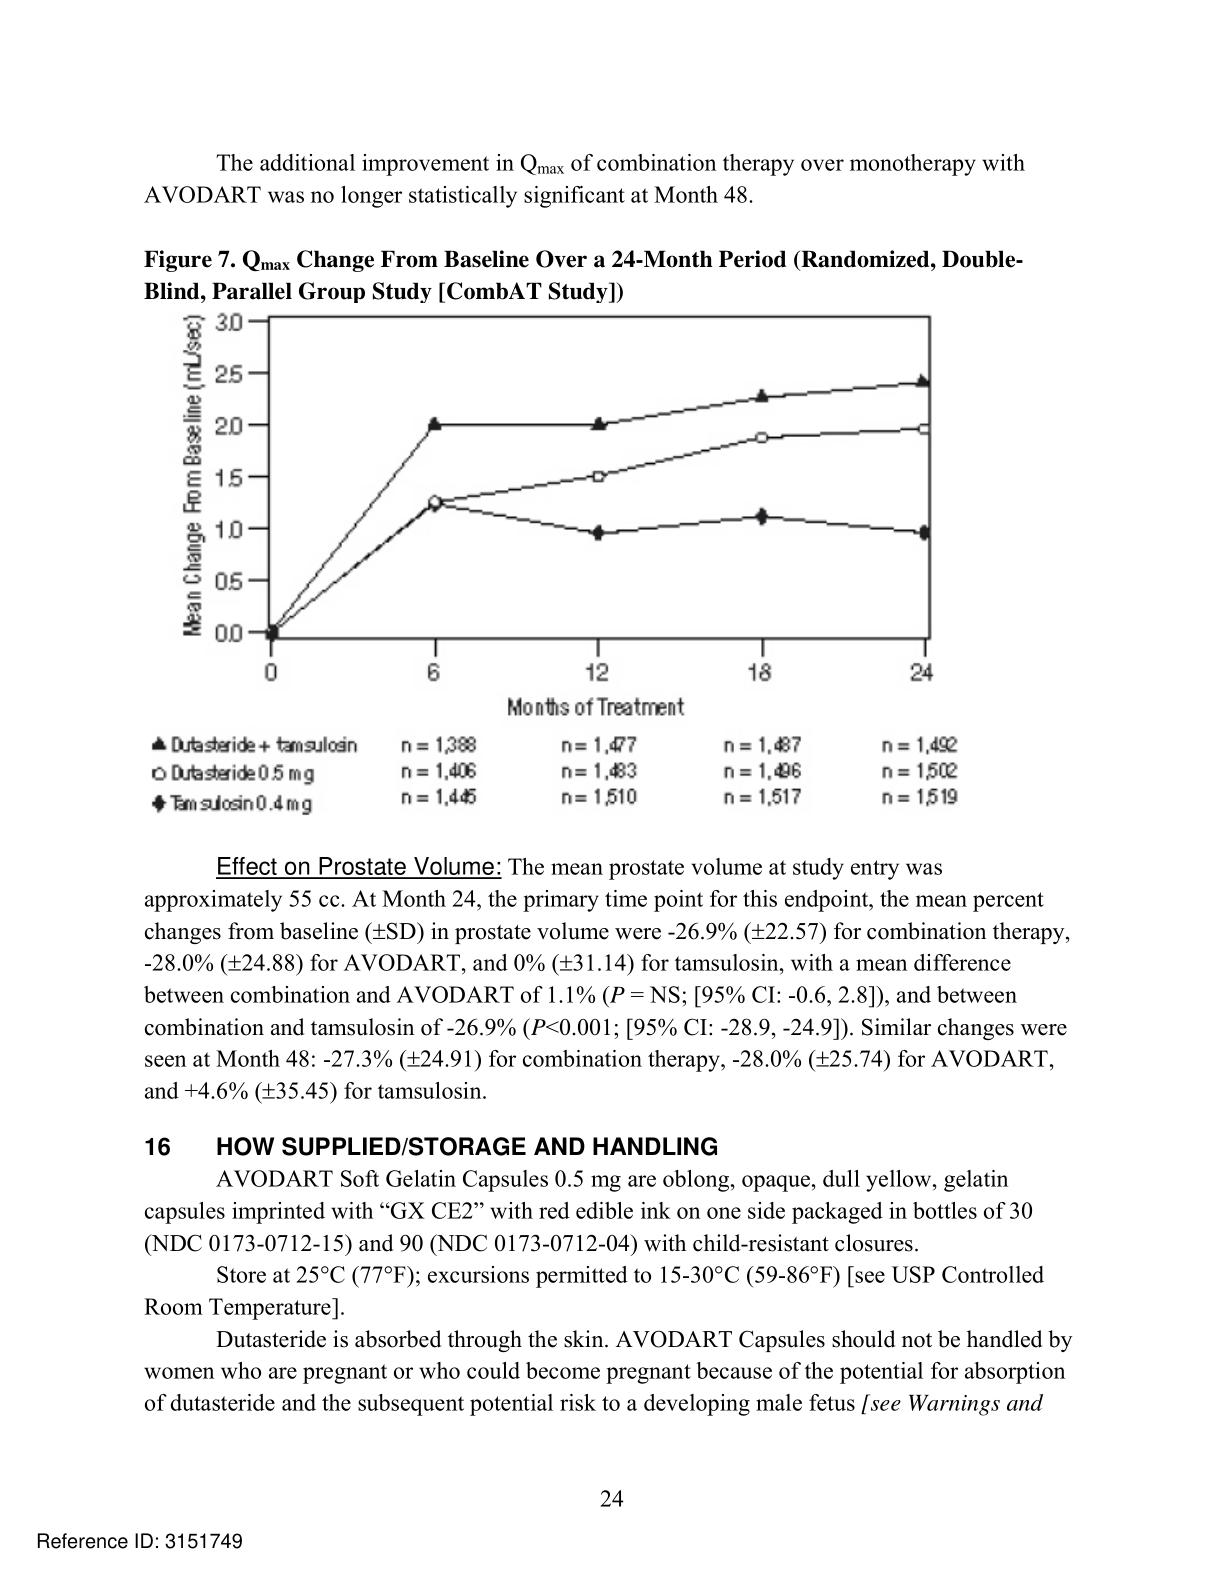nolines: (147, 734, 960, 809)
